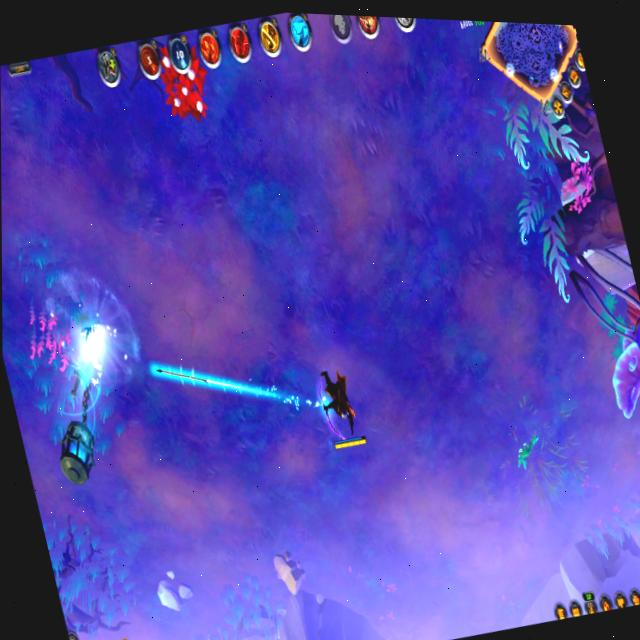10: (30, 338, 134, 496)
hide: (150, 36, 218, 136)
red: (308, 359, 372, 459)
